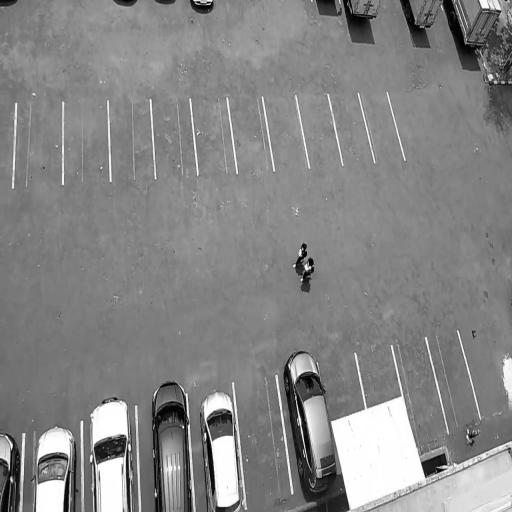Car: (281, 344, 343, 506), (149, 372, 195, 512), (88, 390, 137, 512), (197, 387, 243, 512), (30, 423, 77, 512), (445, 0, 506, 59), (0, 429, 24, 512), (345, 0, 385, 24)
Space Available: (234, 376, 293, 509), (392, 337, 448, 447), (426, 331, 481, 433), (14, 101, 62, 187), (64, 100, 110, 185), (110, 99, 155, 183), (152, 98, 198, 178), (192, 98, 237, 174), (264, 96, 309, 172), (229, 97, 273, 173), (318, 354, 366, 421), (297, 94, 342, 165), (329, 92, 373, 164), (360, 92, 405, 161), (356, 346, 402, 410), (0, 103, 16, 188)
